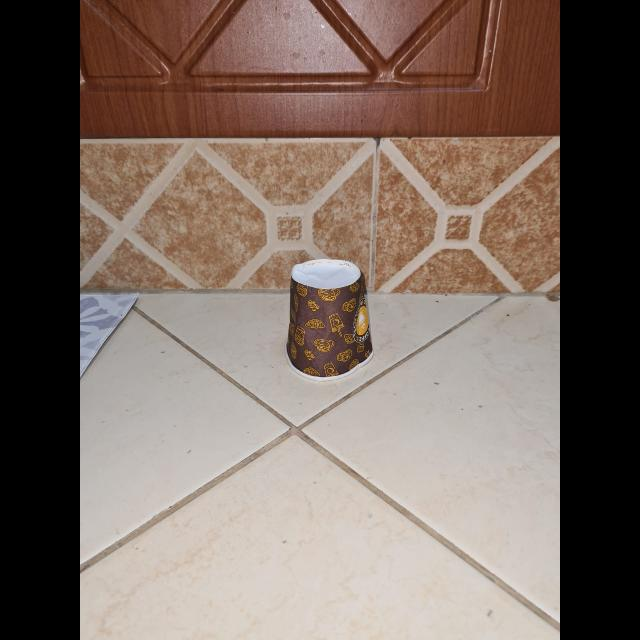trash: (280, 258, 376, 382)
